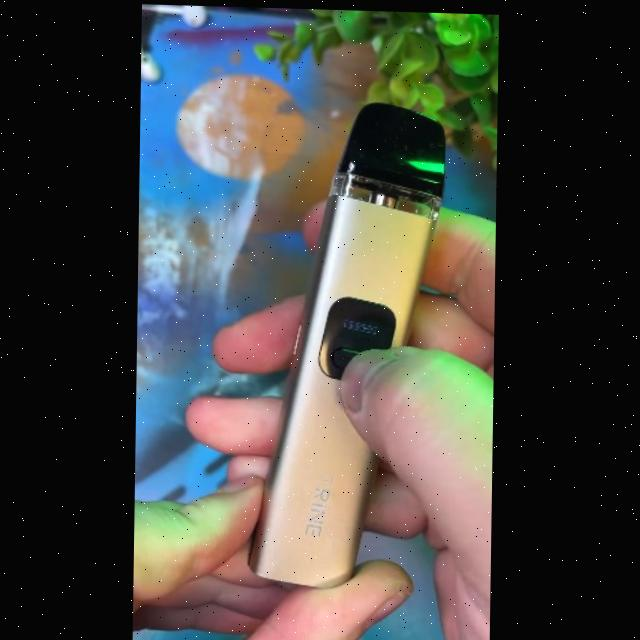vape: (246, 96, 448, 590)
